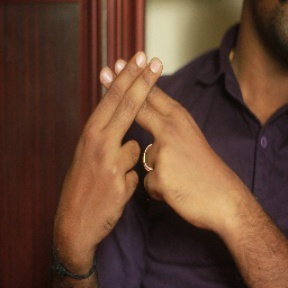F: (75, 46, 204, 183)
